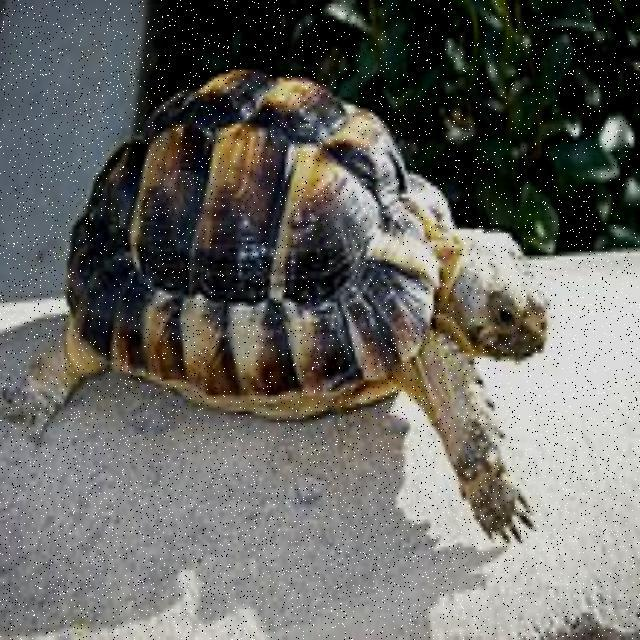tortoise: (9, 90, 539, 538)
